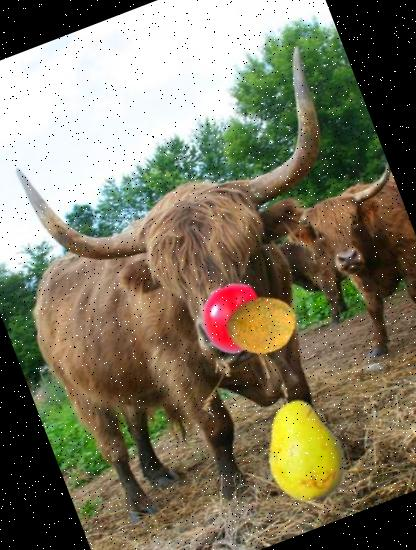Cantaloupe: (216, 280, 307, 370)
Pear: (236, 378, 376, 518)
Redcurrant: (190, 274, 277, 362)
